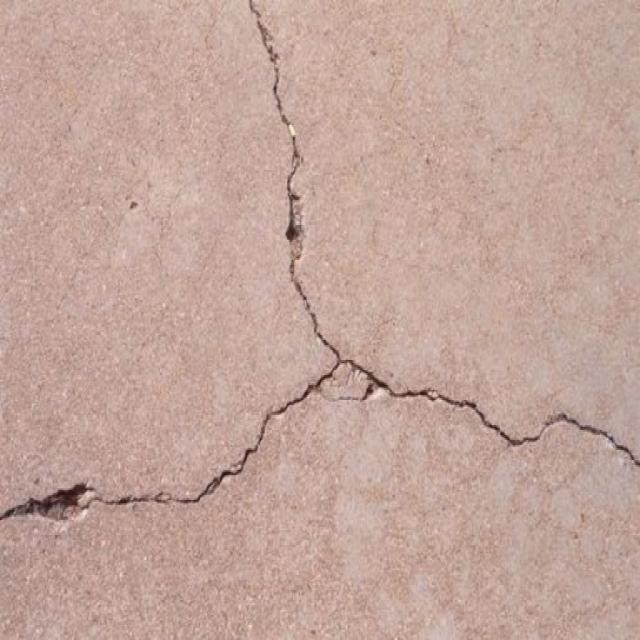crack: (312, 326, 639, 478), (0, 382, 312, 537), (248, 1, 322, 327)
